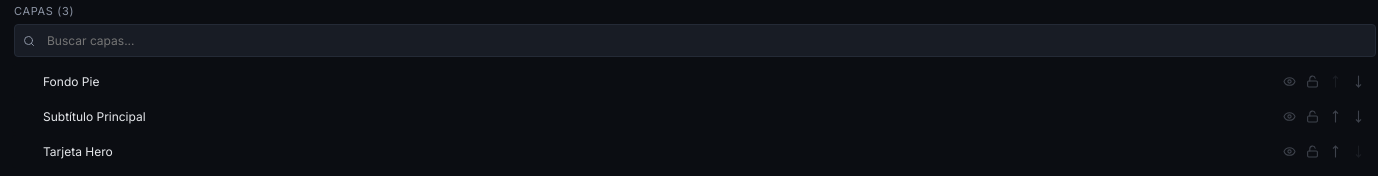
Test: LayersPanel search, shot grouping, and auto-reveal › filters elements by text search on name or id
Check: the text "Tarjeta Hero" is shown, box x1=43 y1=144 x2=113 y2=159
Check: the text "Subtítulo Principal" is shown, box x1=43 y1=109 x2=146 y2=124
Type in search box
Type "hero" into the field with placeholder "Buscar capas..." at (704, 40), box x1=41 y1=29 x2=1367 y2=52
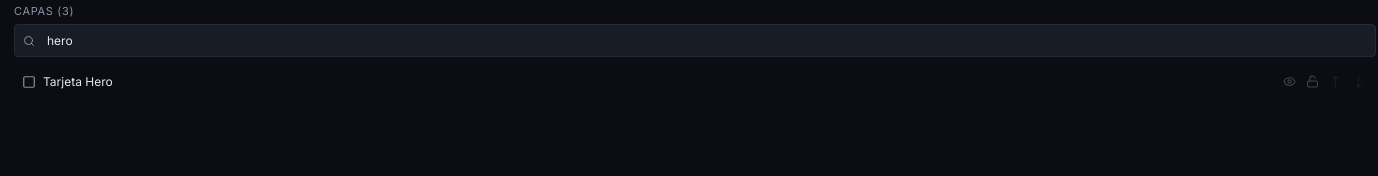
Check: the text "Tarjeta Hero" is shown, box x1=43 y1=74 x2=113 y2=89
Check: the text "Subtítulo Principal" is gone
Check: the text "Fondo Pie" is gone
